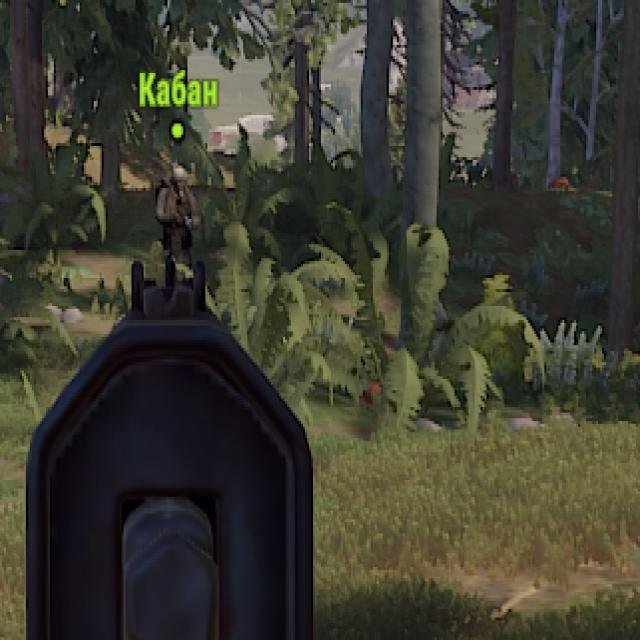Player: (155, 163, 200, 254)
